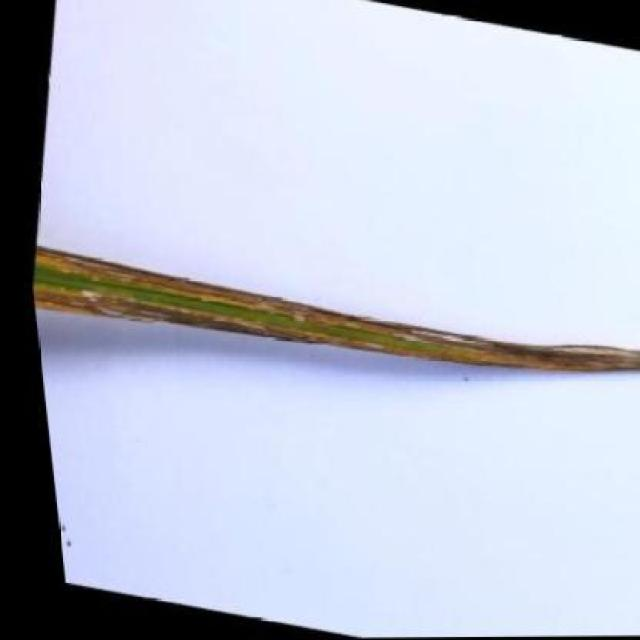Rice False Smut: (26, 247, 640, 372)
